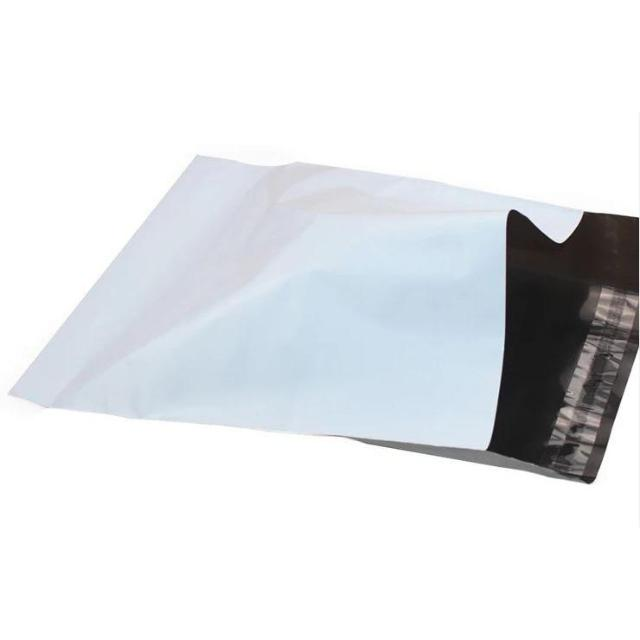mailer: (11, 157, 637, 483)
